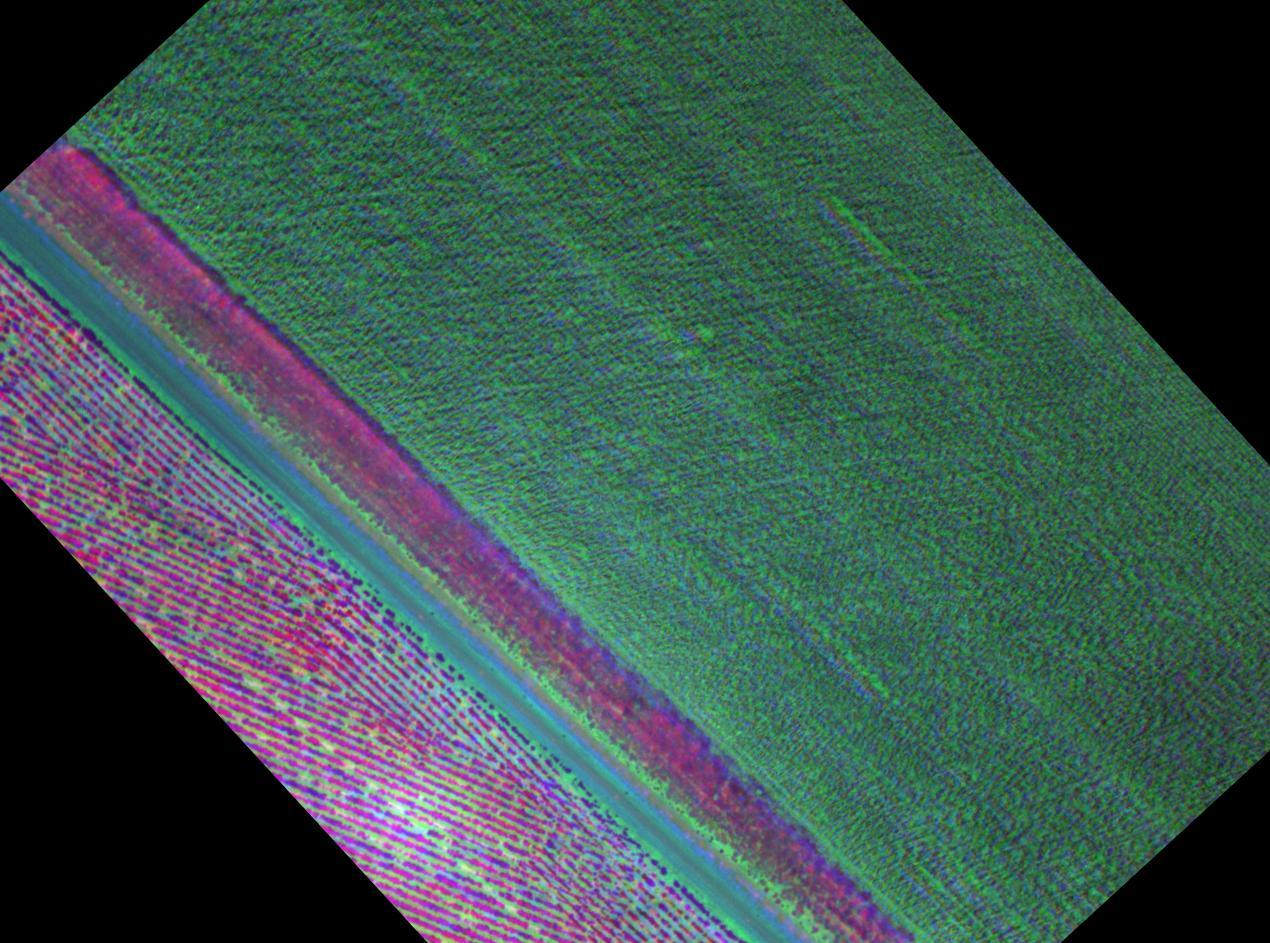dc: (224, 549, 238, 559), (247, 679, 261, 689), (415, 822, 427, 832)
